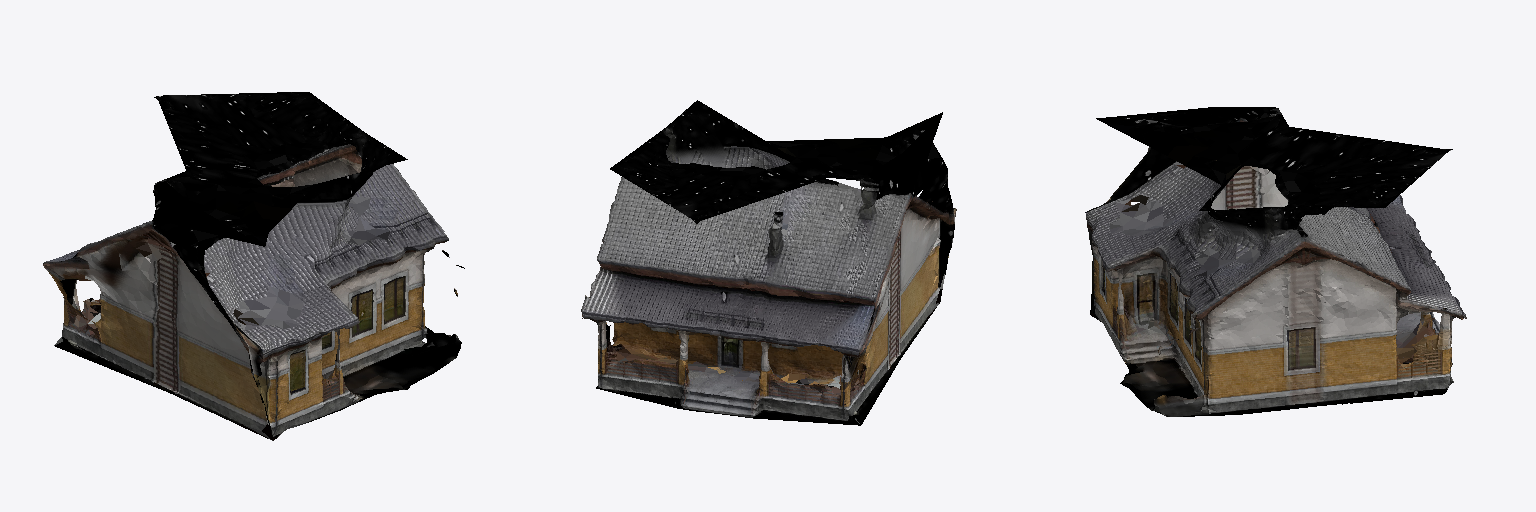
3 renders of one model, left to right at view 1: azimuth 30°, elevation 25°; view 2: azimuth 150°, elevation 25°; view 3: azimuth 270°, elevation 25°, orthographic.
Bounding box in the file's own units: 12.45 × 7.83 × 13.65.
Materials: 1 (1 with a texture image).